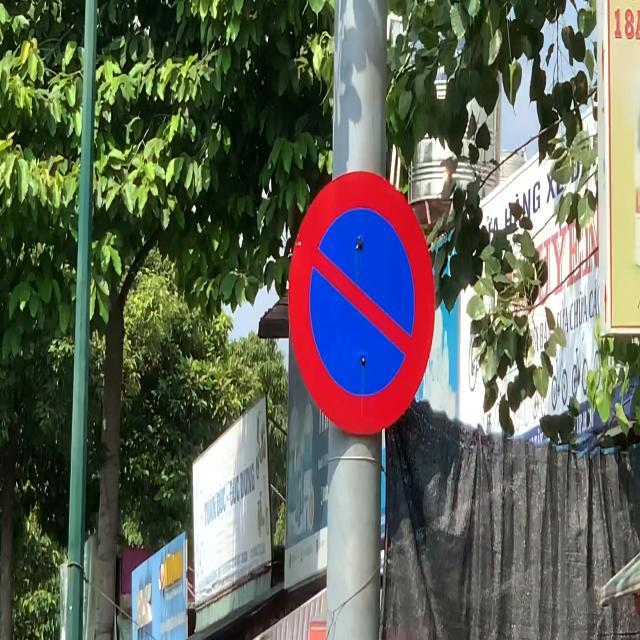P-131a: (288, 173, 434, 434)
